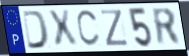5: (126, 5, 154, 49)
C: (76, 9, 101, 49)
D: (21, 10, 51, 51)
R: (150, 7, 182, 47)
X: (46, 8, 80, 50)
Z: (99, 8, 130, 47)
